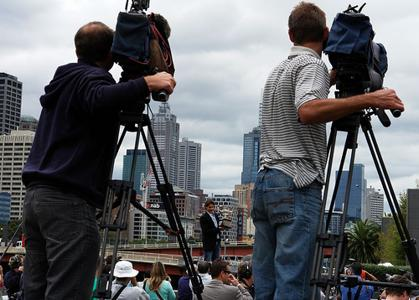person: (246, 3, 405, 297)
